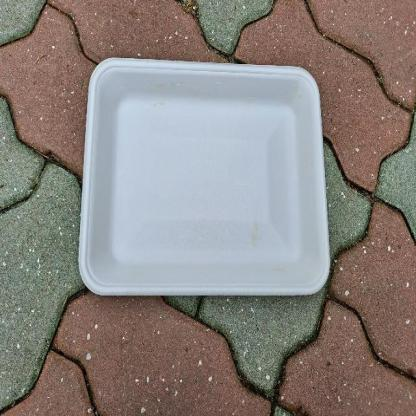Glass Cup: (78, 56, 330, 296), (79, 57, 330, 295)
